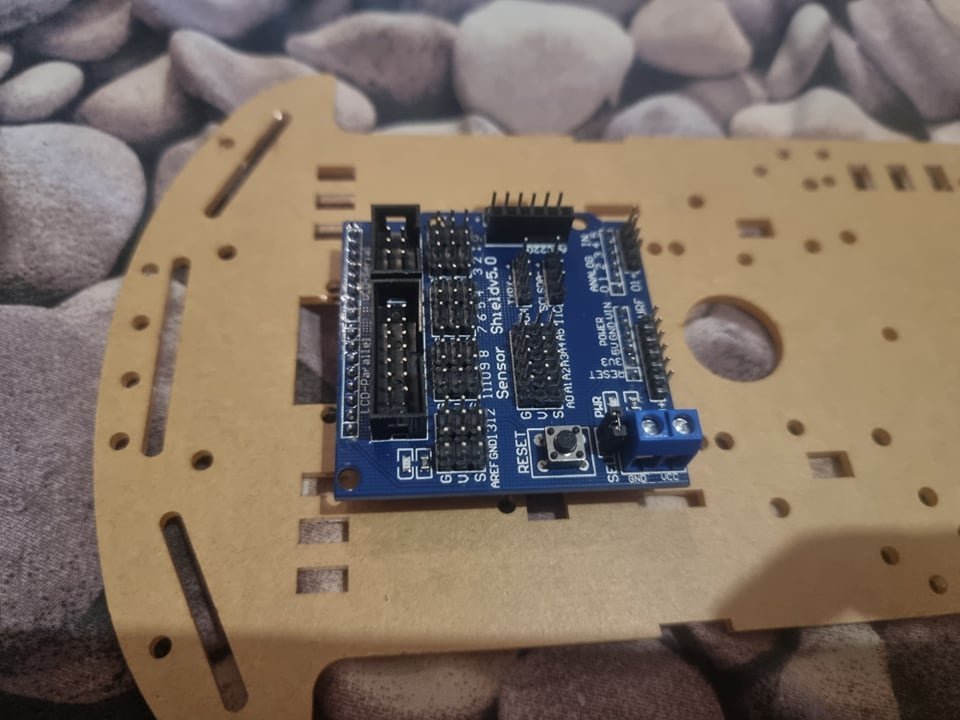5V EXPANSION: (330, 191, 700, 500)
